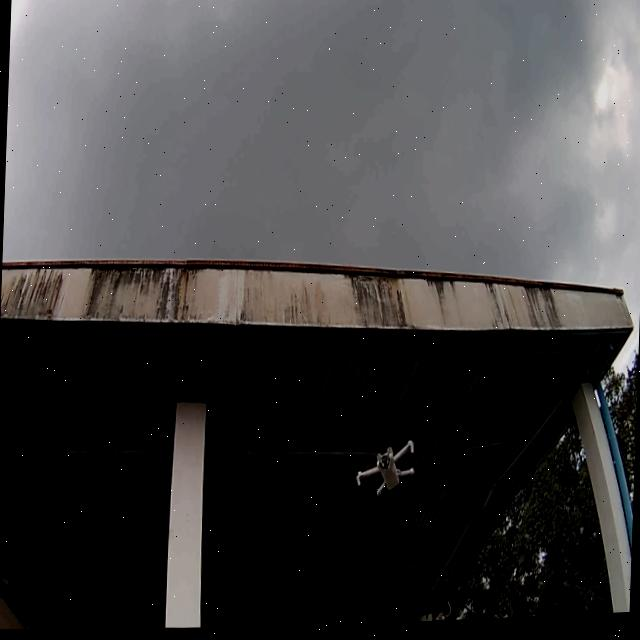drone: (354, 439, 416, 503)
